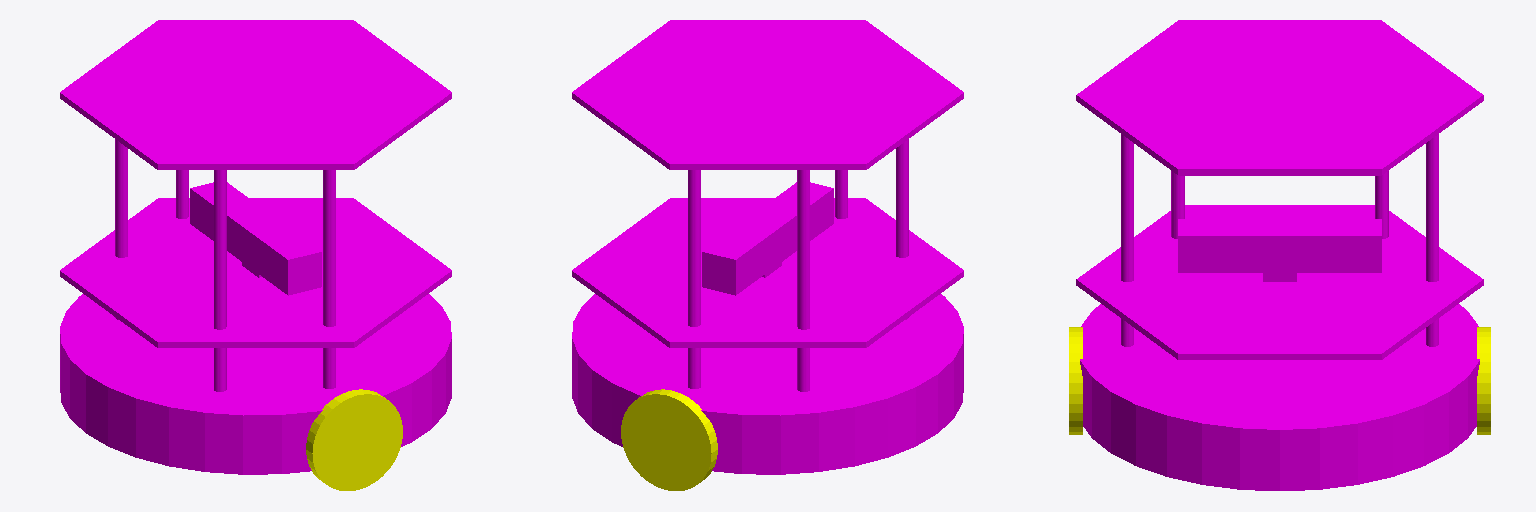
The robot description file, URDF, robot "model":
<?xml version="1.0"?>
<robot name="model">

    <material name="magenta">
        <color rgba="1 0 1 1"/>
    </material>
    <material name="yellow">
        <color rgba="1 1 0 1"/>
    </material>
    
    <link name="base_link">
        <visual>
            <geometry>
                <mesh filename="package://miapr_projekt/robot_mesh.stl" scale="0.5 0.5 0.5"/>
            </geometry>
            <material name="magenta"/>
        </visual>
        <collision>
            <geometry>
                <cylinder length="0.3" radius="0.15"/>
            </geometry>
        </collision>
        <inertial>
			<mass value="0.5"/>
			<inertia ixx="0.02625" ixy="0" ixz="0" iyy="0.0225" iyz="0" izz="0.02625"/>
		</inertial>
    </link>
    
    <link name="left_wheel">
        <visual>
            <geometry>
                <cylinder length="0.01" radius="0.04"/>
            </geometry>
            <origin rpy="1.57075 0 0"/>
            <material name="yellow"/>
        </visual>
        <collision>
            <origin rpy="1.57075 0 0" xyz="0 0 0"/>
            <geometry>
                <cylinder length="0.01" radius="0.04"/>
            </geometry>
        </collision>
        <inertial>
			<mass value="0.02"/>
			<inertia ixx="8e-06" ixy="0" ixz="0" iyy="1.6e-05" iyz="0" izz="8e-05"/>
		</inertial>
    </link>
    
    <joint name="left_wheel_joint" type="continuous">
        <parent link="base_link"/>
        <child link="left_wheel"/>
        <origin xyz="0 -0.1505 0.04"/>
        <axis xyz="0 1 0"/>
    </joint>
    
    <link name="right_wheel">
        <visual>
            <geometry>
                <cylinder length="0.01" radius="0.04"/>
            </geometry>
            <origin rpy="1.57075 0 0"/>
            <material name="yellow"/>
        </visual>
        <collision>
            <origin rpy="1.57075 0 0" xyz="0 0 0"/>
            <geometry>
                <cylinder length="0.01" radius="0.04"/>
            </geometry>
        </collision>
        <inertial>
			<mass value="0.02"/>
			<inertia ixx="8e-06" ixy="0" ixz="0" iyy="1.6e-05" iyz="0" izz="8e-05"/>
		</inertial>
    </link>
    
    <joint name="right_wheel_joint" type="continuous">
        <parent link="base_link"/>
        <child link="right_wheel"/>
        <origin xyz="0 0.1505 0.04"/>
        <axis xyz="0 1 0"/>
    </joint>
    
</robot>

--- What the picture shows (computed from the rendered views, not written in the file) ---
The picture shows the robot from 3 angles, left to right: view 1: azimuth 30°, elevation 25°; view 2: azimuth 150°, elevation 25°; view 3: azimuth 270°, elevation 25°; orthographic projection.
Robot: model — 3 links, 2 joints (2 continuous); root link base_link; default pose: every joint at zero.
Visible links, largest first — view 1: base_link, left_wheel; view 2: base_link, right_wheel; view 3: base_link, left_wheel, right_wheel.
Boxes of the visible links, bbox=[...] form: base_link: bbox=[60, 20, 451, 474]; left_wheel: bbox=[306, 389, 402, 490]; base_link: bbox=[572, 20, 963, 474]; right_wheel: bbox=[621, 389, 717, 490]; base_link: bbox=[1076, 20, 1483, 490]; left_wheel: bbox=[1069, 327, 1082, 434]; right_wheel: bbox=[1477, 327, 1490, 434].
Size in the robot's own frame: 0.3 by 0.311 by 0.2725 metres.
Meshes: 1 distinct files referenced, 1 mesh visuals loaded (1 binary STL).